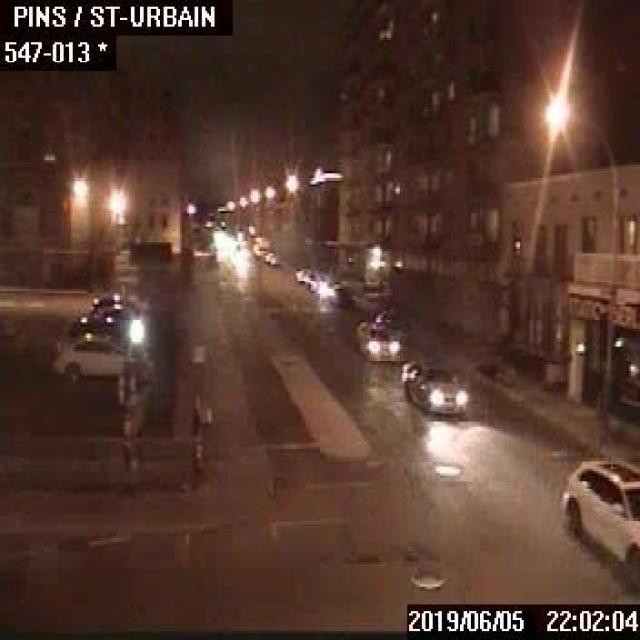vehicle: (562, 456, 638, 586), (51, 330, 153, 380), (400, 360, 466, 416), (351, 320, 398, 360), (68, 312, 140, 338), (89, 291, 150, 316), (93, 303, 137, 317), (304, 270, 328, 293), (324, 280, 349, 300), (251, 235, 268, 256), (292, 266, 312, 281), (262, 251, 280, 263)
